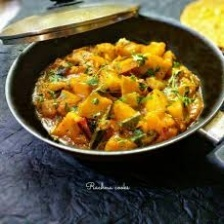sabzi: (28, 31, 207, 158)
